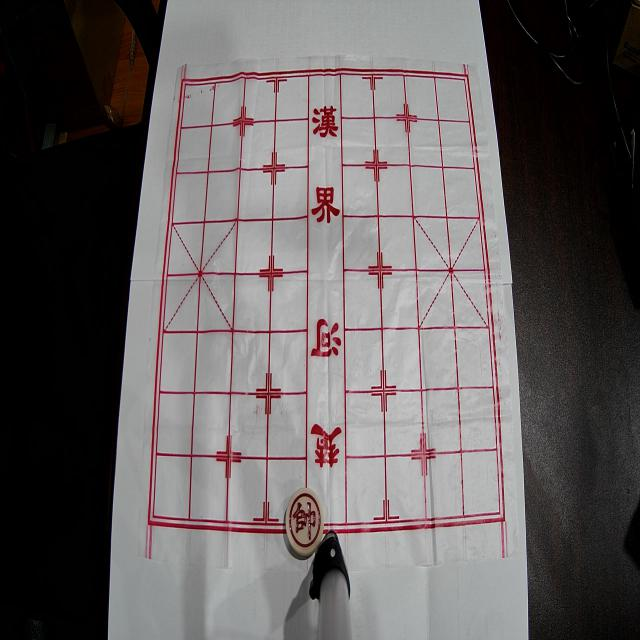red-general: (286, 488, 324, 556)
